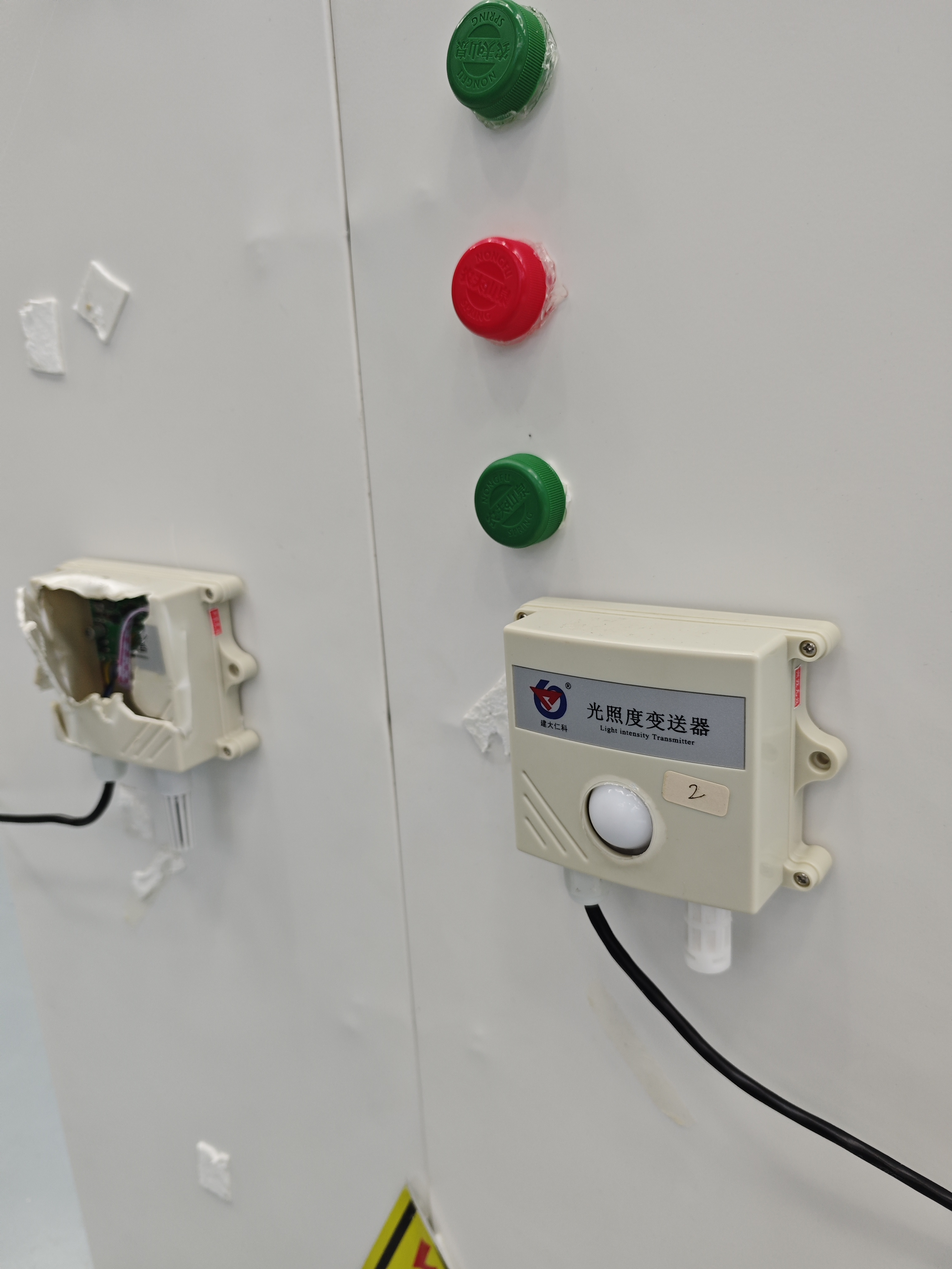red_warning: (419, 202, 612, 387)
sensor_damage: (1, 528, 288, 891)
